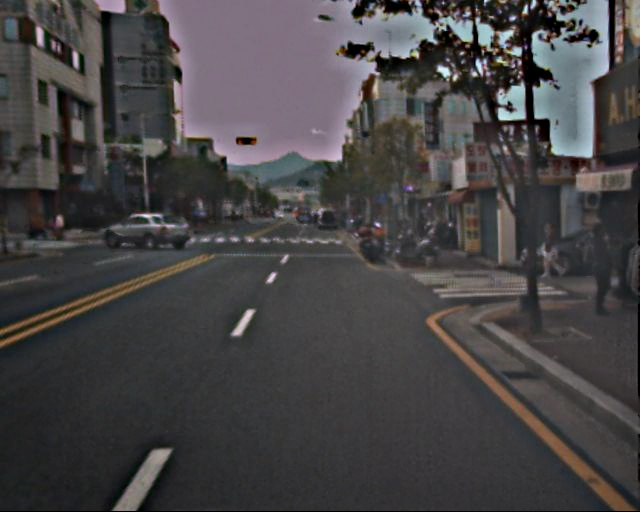person: (578, 224, 618, 314), (537, 219, 560, 279)
